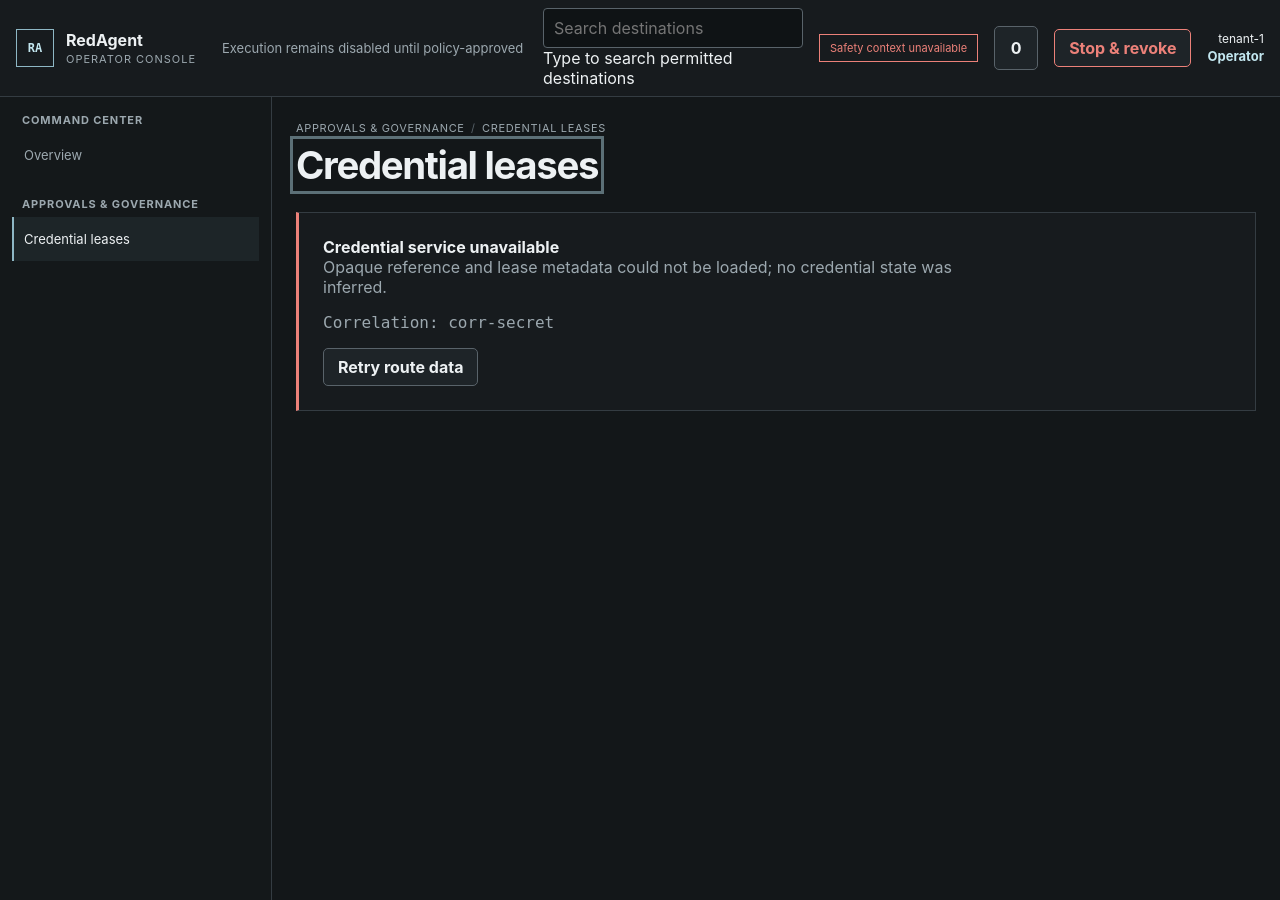
Test: credential lease console › projects a correlated credential outage and retries without inferring lease state
The width and height of the screenshot is (1280, 900).
Expected: the message "Credential service unavailable" is shown, [296,212,1256,411]
Expected: the text "Correlation: corr-secret" is shown, [323,313,554,332]
Click the button "Retry route data": [401, 367] box [323,348,478,386]
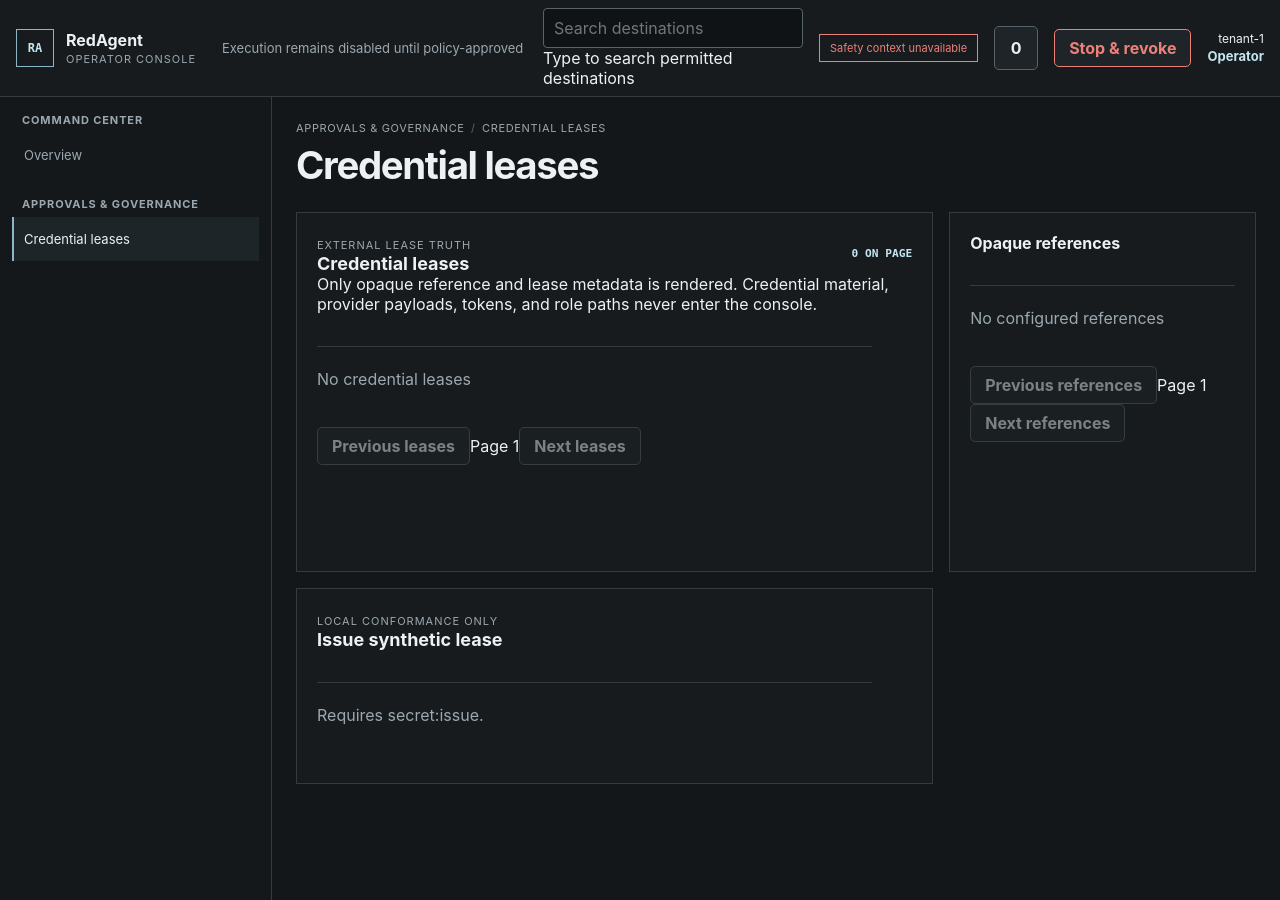
Expected: the text "No credential leases" is shown, [317,346,872,411]
